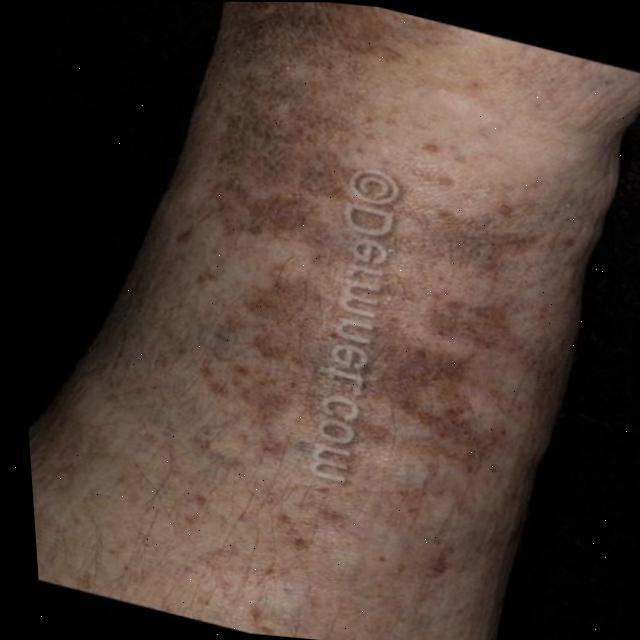Eczema: (99, 61, 553, 462)
